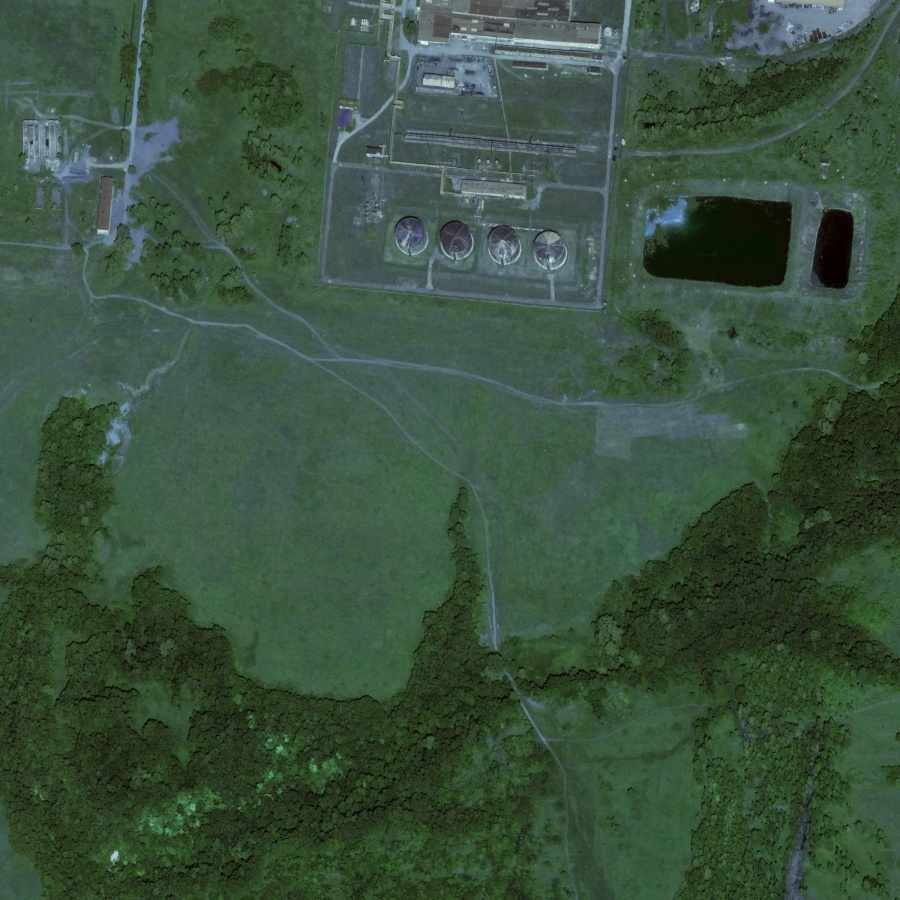PowerPlant: (388, 165, 598, 331), (633, 182, 867, 309)
